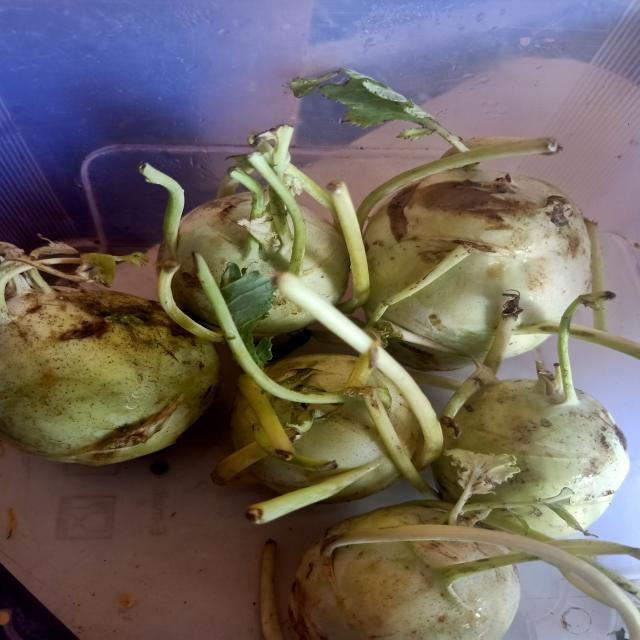Turnip: (0, 243, 219, 465), (364, 165, 592, 371), (289, 506, 520, 640), (444, 370, 630, 530), (211, 392, 401, 503), (171, 192, 291, 325), (300, 205, 349, 304), (368, 370, 423, 457), (265, 354, 357, 394), (253, 293, 313, 338), (515, 506, 577, 539), (433, 456, 463, 502)
